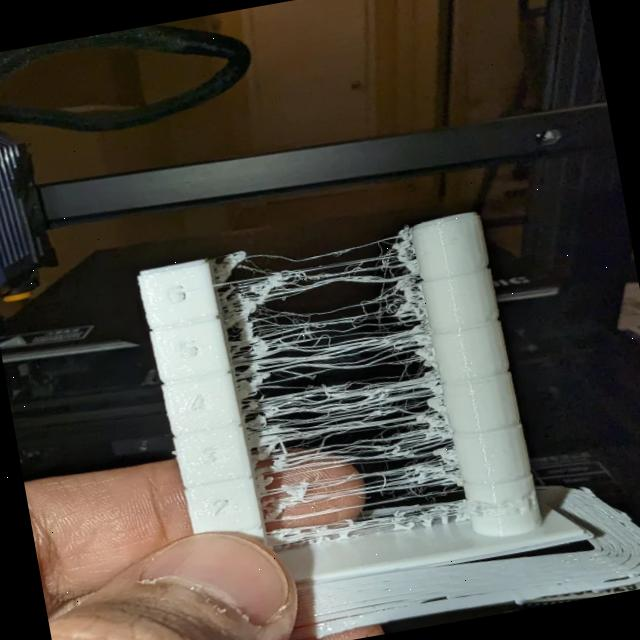stringing: (210, 232, 467, 546)
